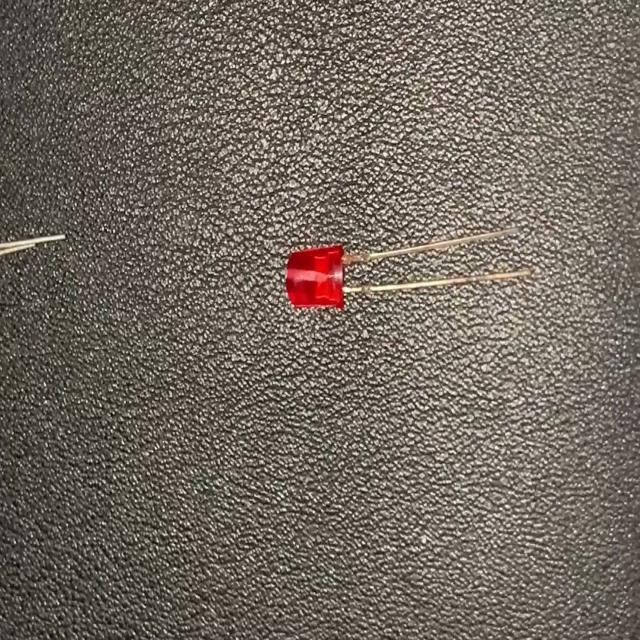LED: (284, 224, 534, 312)
rust: (342, 248, 369, 272)
